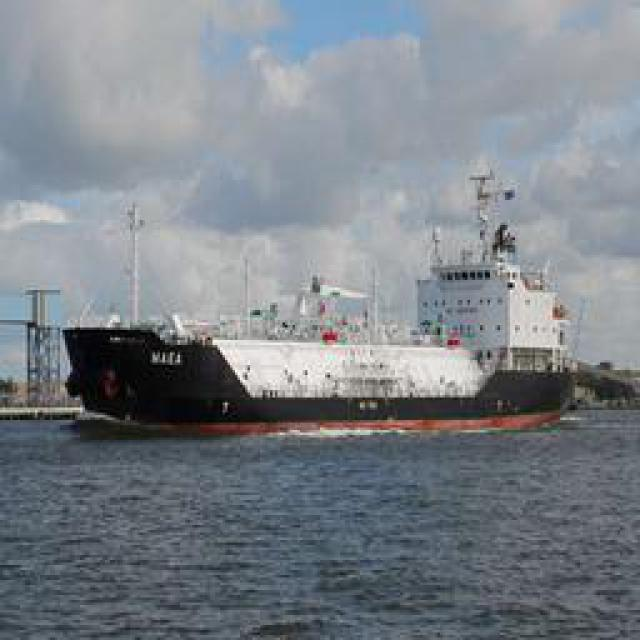Ship: (64, 163, 584, 428)
